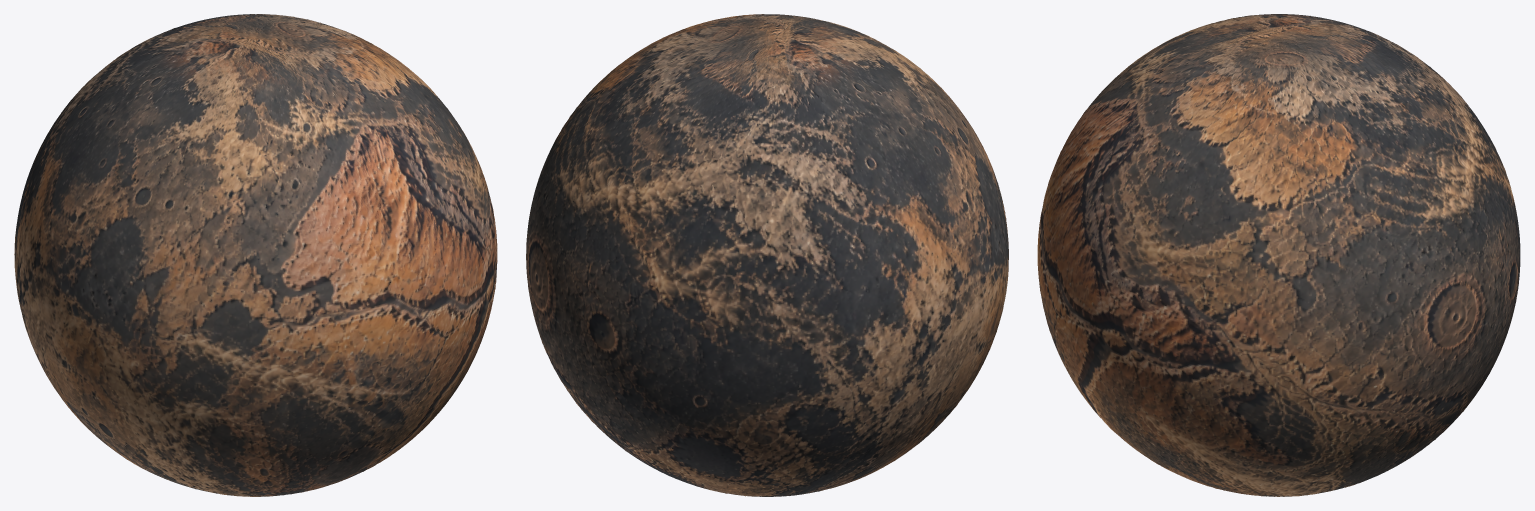
Rendered from ferron.glb.
The picture shows the model from 3 angles, left to right: view 1: azimuth 30°, elevation 25°; view 2: azimuth 150°, elevation 25°; view 3: azimuth 270°, elevation 25°; orthographic projection.
Parts seen in each view (by area): view 1: Ferron_Orbital_Geology; view 2: Ferron_Orbital_Geology; view 3: Ferron_Orbital_Geology.
Boxes of the visible parts, x1,y1,x2,y2 form: Ferron_Orbital_Geology: [14, 14, 497, 496]; Ferron_Orbital_Geology: [526, 14, 1008, 496]; Ferron_Orbital_Geology: [1037, 14, 1520, 496].
Bounding box in the file's own units: 2 × 2 × 1.99.
Materials: 1 (1 with a texture image).
